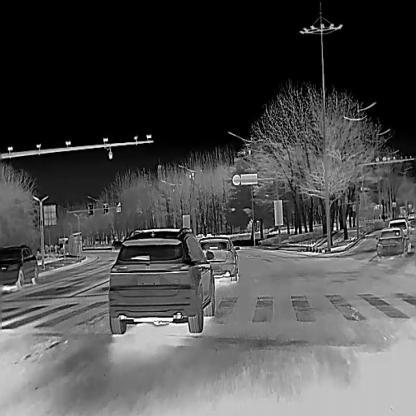car: (107, 225, 215, 335), (196, 234, 239, 282), (0, 242, 38, 294), (375, 225, 407, 258), (387, 217, 411, 248)
